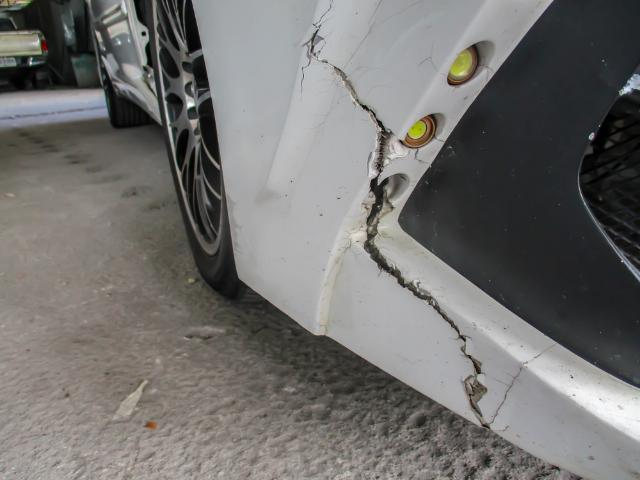crack: (299, 0, 559, 427)
